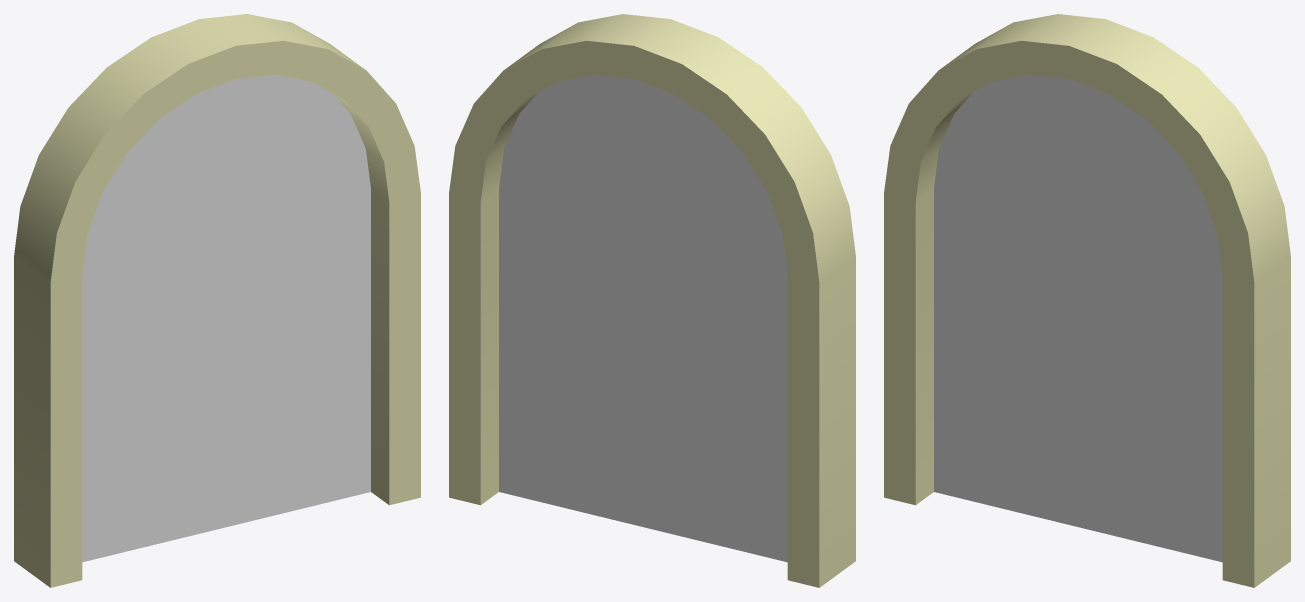
Rendered from stage.fbx.
The picture shows the model from 3 angles, left to right: view 1: azimuth 30°, elevation 25°; view 2: azimuth 150°, elevation 25°; view 3: azimuth 330°, elevation 25°; orthographic projection.
Visible parts, largest first — view 1: STAGE; view 2: STAGE; view 3: STAGE.
Part boxes in pixels (bbox=[...]): STAGE: bbox=[14, 14, 420, 587]; STAGE: bbox=[449, 14, 855, 587]; STAGE: bbox=[884, 14, 1290, 587].
Size of the model in its own units: 1170 by 1500 by 200.
